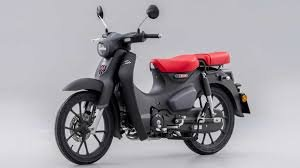motor: (57, 30, 249, 167)
